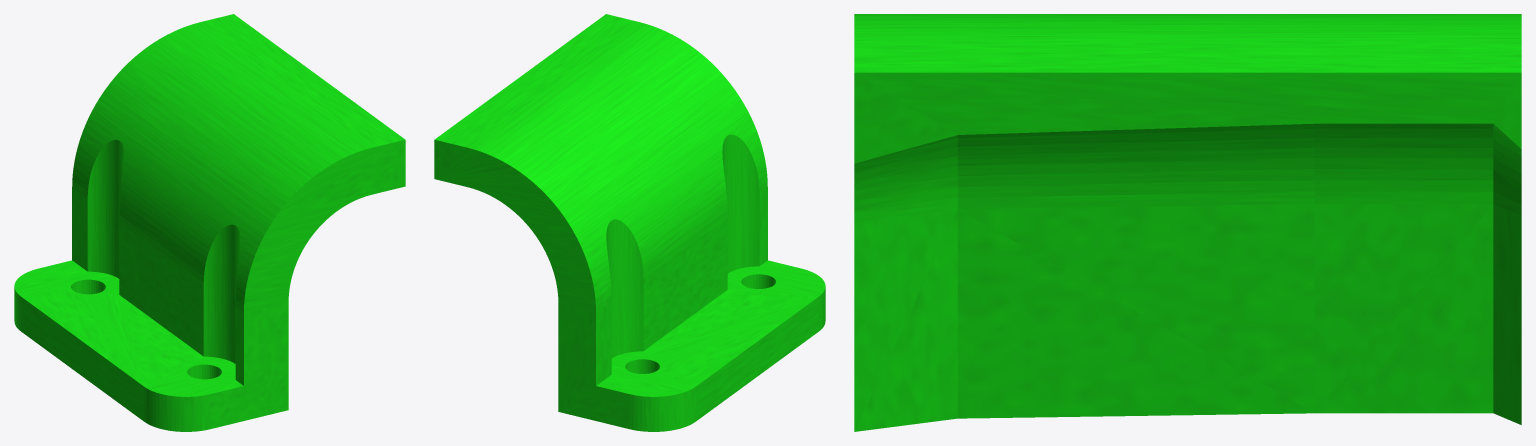
File: xtion_bracket_right.dae
The picture shows the model from 3 angles, left to right: view 1: azimuth 30°, elevation 25°; view 2: azimuth 150°, elevation 25°; view 3: azimuth 270°, elevation 25°; orthographic projection. The views are drawn at different scales.
Visible parts, largest first — view 1: node; view 2: node; view 3: node.
Part boxes in pixels (bbox=[...]): node: bbox=[14, 14, 405, 431]; node: bbox=[434, 14, 825, 431]; node: bbox=[854, 14, 1521, 431].
Size of the model in its own units: 28.3 by 27.6 by 35.5.
1 material, 1 textured.
